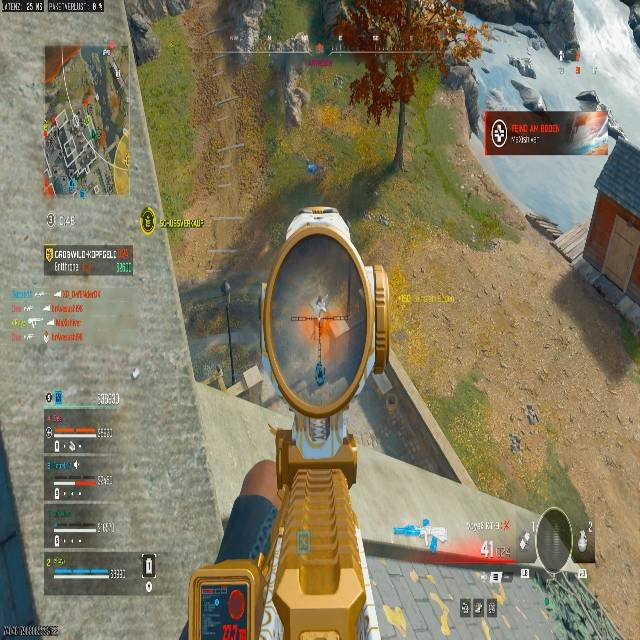player: (417, 0, 496, 105), (314, 362, 325, 384)
